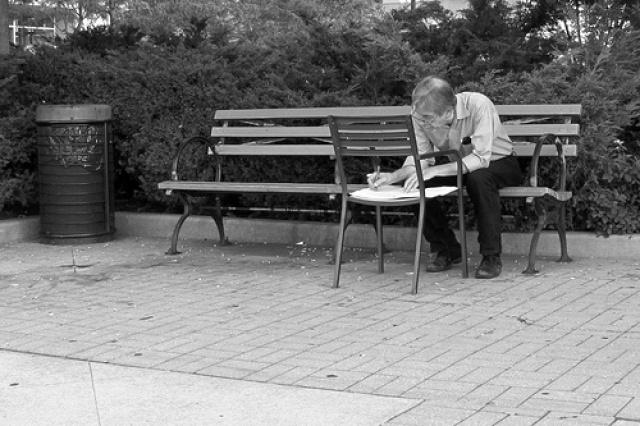Kursi: (326, 113, 469, 298)
